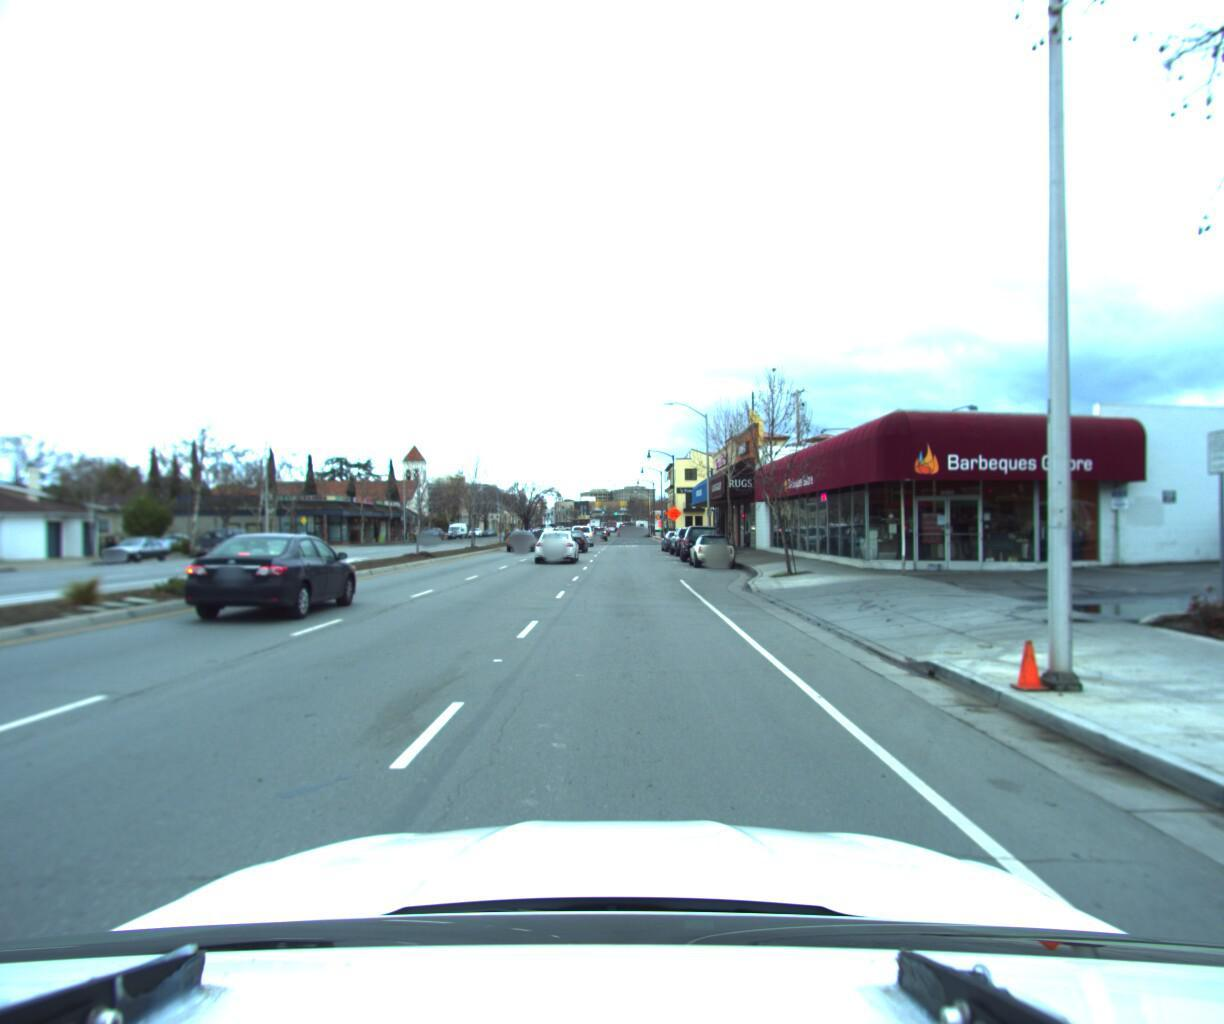car: (181, 526, 370, 622), (99, 535, 175, 568), (684, 529, 735, 567), (535, 525, 582, 562), (675, 523, 720, 560), (194, 531, 251, 557), (669, 524, 707, 554), (655, 523, 686, 549), (557, 522, 588, 547), (504, 526, 538, 548), (574, 521, 597, 540)
